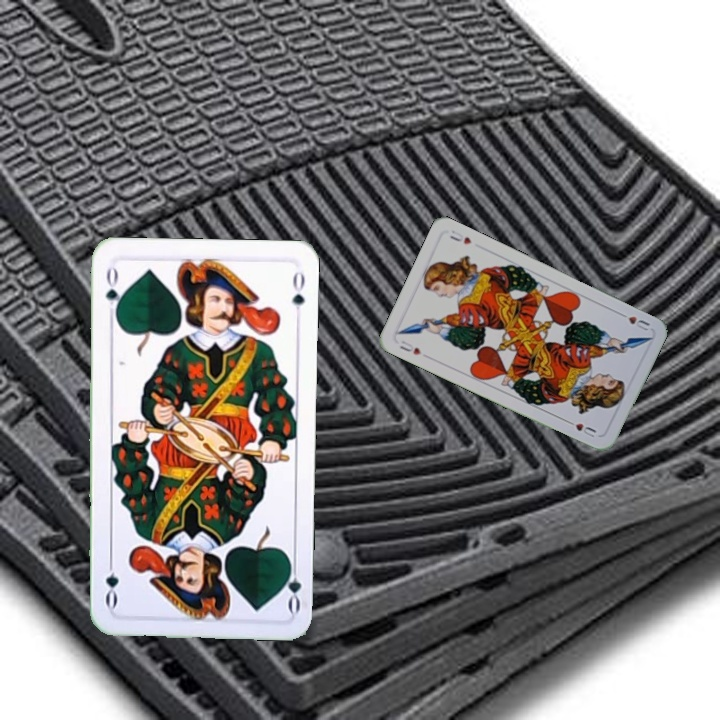GO: (278, 555, 304, 614), (101, 262, 124, 321)
HU: (615, 308, 652, 333), (395, 336, 424, 358)
